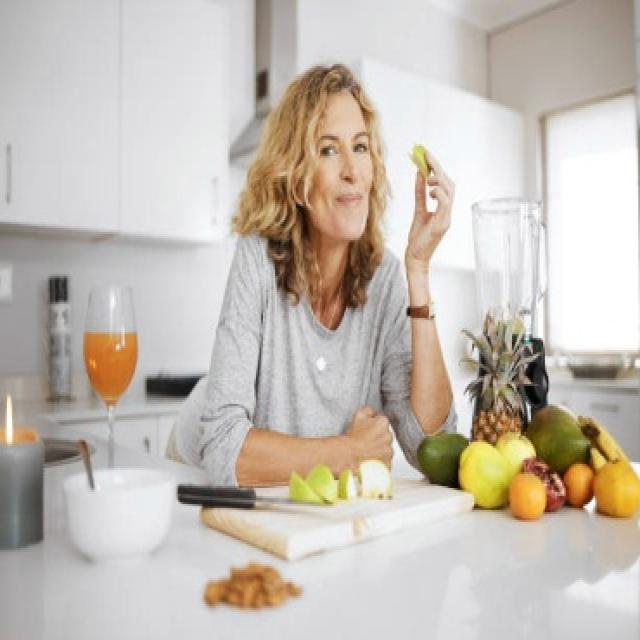adult: (212, 69, 478, 486)
